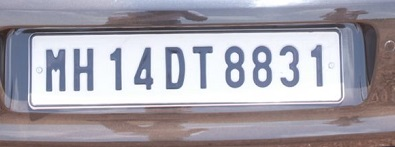number_plate: (15, 18, 366, 126)
